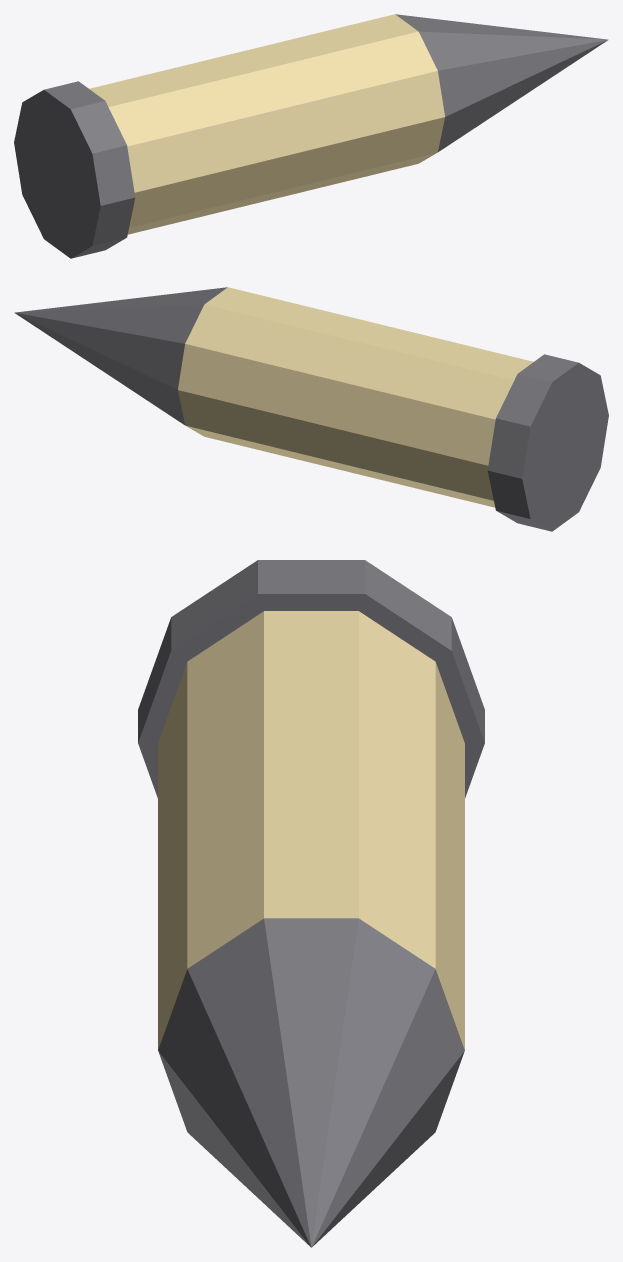
File: projectile_shell.glb
3 views of the same model, one above another, from view 1: azimuth 30°, elevation 25°; view 2: azimuth 150°, elevation 25°; view 3: azimuth 270°, elevation 25° (orthographic). The views are drawn at different scales.
Visible parts, largest first — view 1: Shell, accent_ShellNose; view 2: Shell, accent_ShellNose; view 3: Shell, accent_ShellNose.
Part boxes in pixels (x1=…): Shell: x1=89, y1=14, x2=444, y2=234; accent_ShellNose: x1=14, y1=14, x2=608, y2=258; Shell: x1=178, y1=287, x2=533, y2=507; accent_ShellNose: x1=14, y1=287, x2=608, y2=531; Shell: x1=158, y1=611, x2=464, y2=1049; accent_ShellNose: x1=138, y1=560, x2=484, y2=1247.
Size of the model in its own units: 0.955 by 0.2473 by 0.26.
